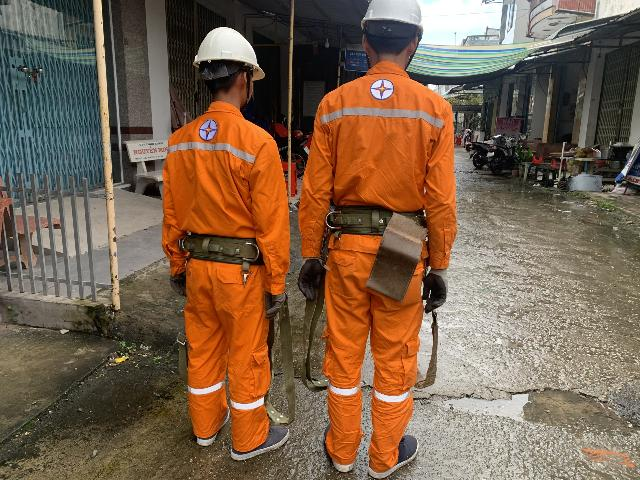gloves: (290, 259, 332, 303), (418, 266, 459, 309), (163, 268, 195, 304), (264, 281, 287, 320)
harness: (319, 194, 435, 251), (169, 225, 262, 273)
helmet: (180, 20, 279, 89), (359, 0, 444, 51)
shoes: (366, 424, 425, 480), (222, 415, 294, 458), (317, 422, 365, 474), (191, 402, 231, 441)
